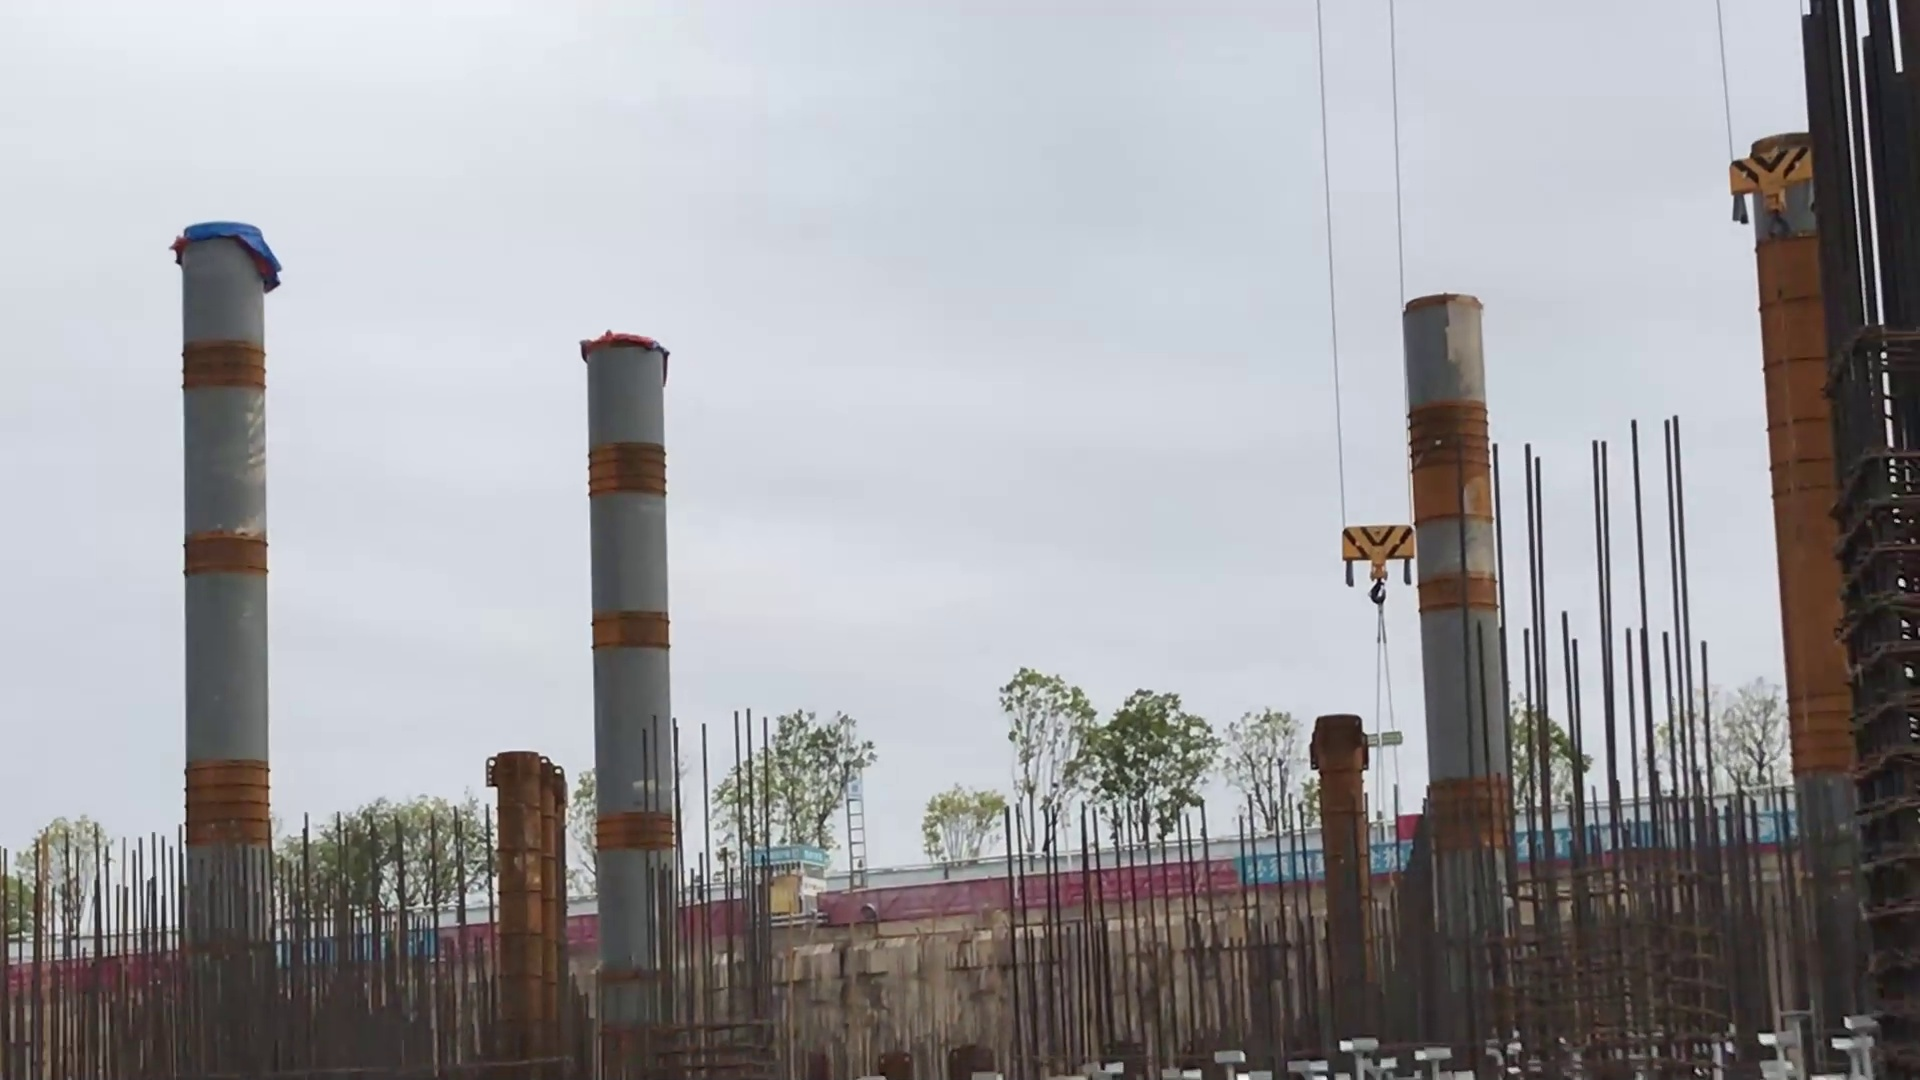fence: (21, 802, 1851, 998)
hook: (1720, 146, 1815, 236), (1335, 517, 1412, 611)
slogan: (1234, 815, 1808, 874), (307, 936, 439, 968)
